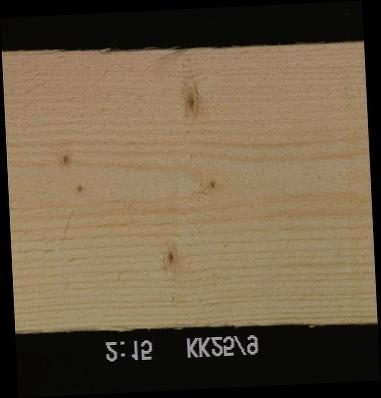small_knot: (159, 243, 180, 273), (57, 150, 76, 169), (203, 175, 219, 195), (71, 179, 87, 197)
sound_knot: (177, 81, 203, 119)
